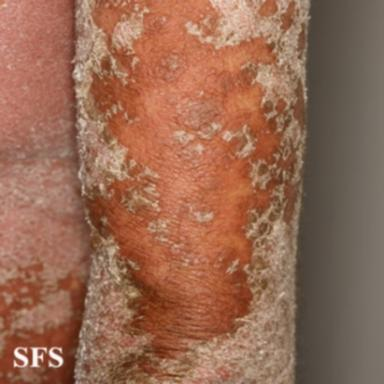Psoriasis: (76, 0, 308, 384), (75, 0, 242, 274), (0, 118, 90, 354), (159, 55, 180, 81)
